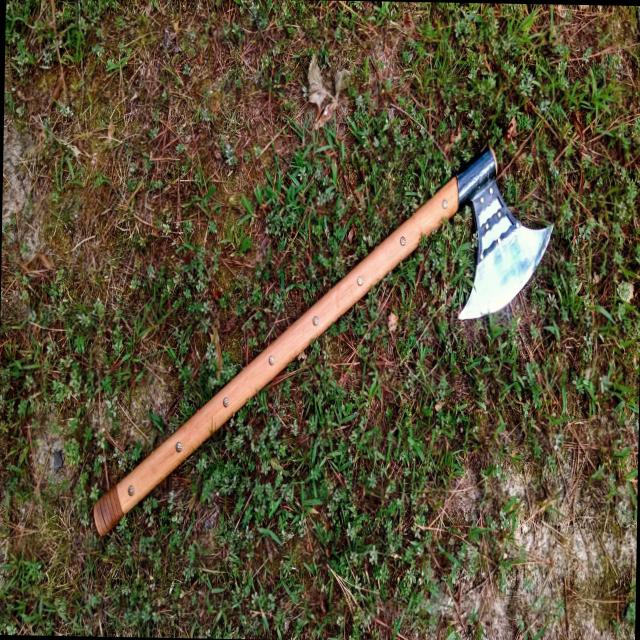Gun: (71, 89, 593, 564)
